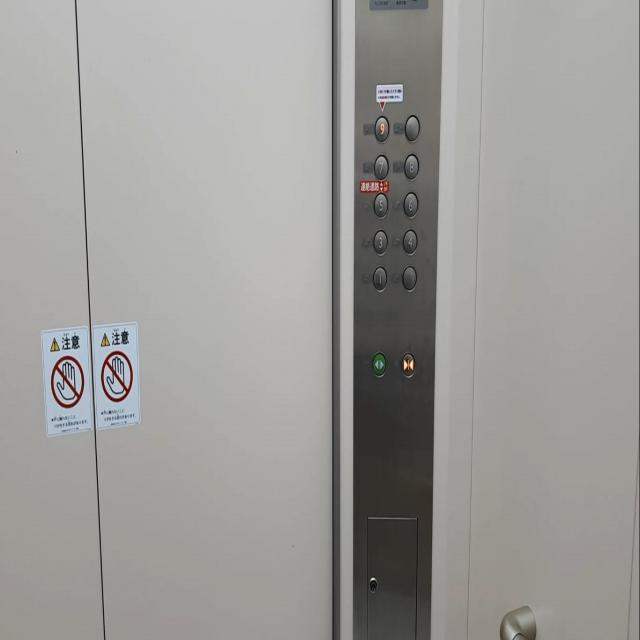1: (372, 264, 387, 293)
3: (372, 227, 388, 255)
4: (402, 227, 417, 255)
5: (373, 192, 389, 218)
6: (403, 190, 418, 218)
7: (373, 152, 389, 180)
8: (403, 151, 419, 180)
9: (374, 114, 389, 143)
close: (401, 351, 415, 377)
empty: (404, 112, 420, 142), (401, 264, 417, 291)
open: (371, 350, 387, 378)
